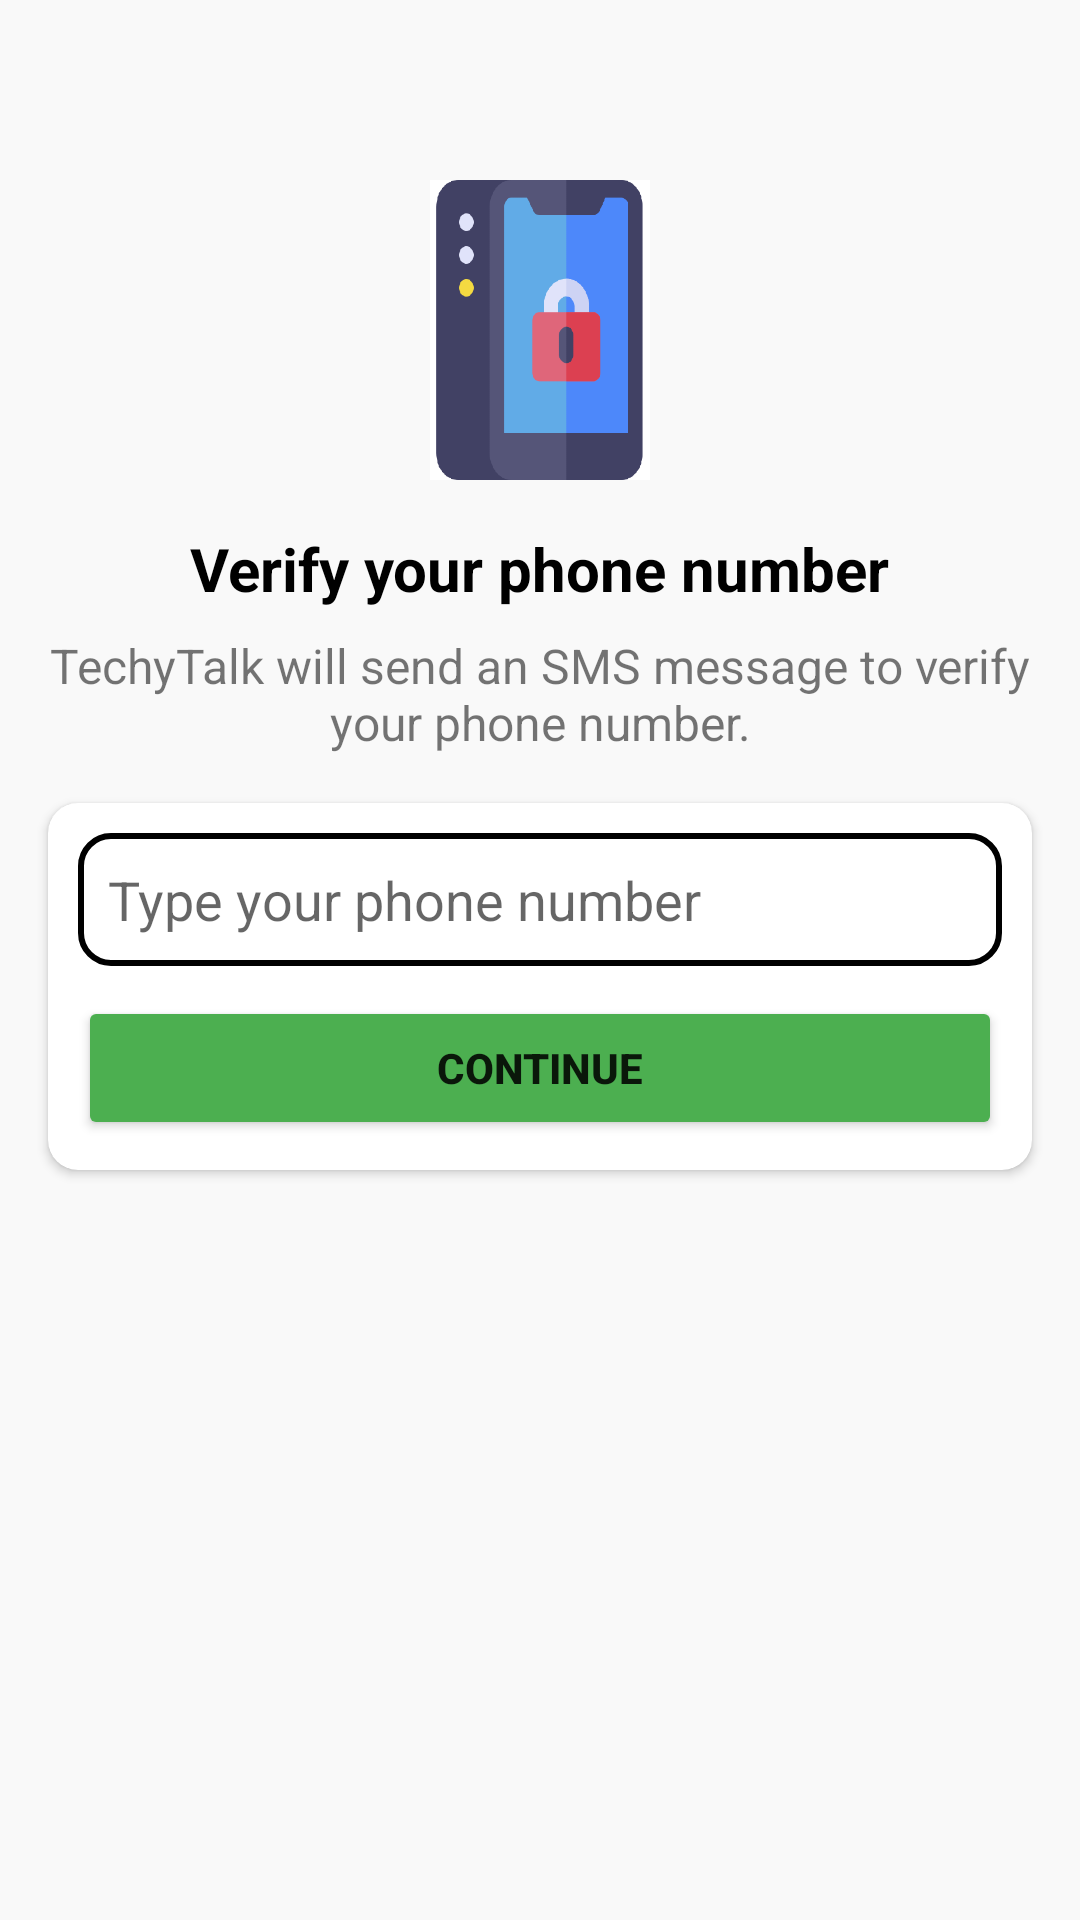

Icons on this 1080x1920 Android screen, each with its box as (x1, y1, x2, y2):
mobile auth: (436, 180, 643, 480)
